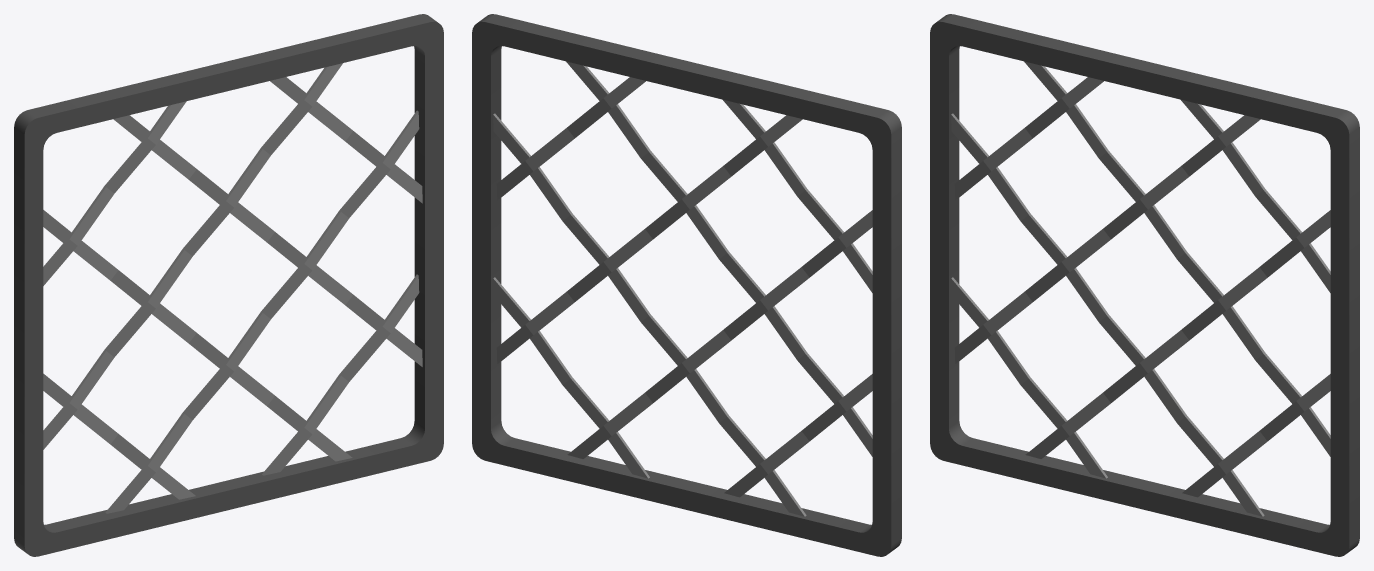
3 renders of one model, left to right at view 1: azimuth 30°, elevation 25°; view 2: azimuth 150°, elevation 25°; view 3: azimuth 330°, elevation 25°, orthographic.
Parts seen in each view (by area): view 1: Grid B; view 2: Grid B; view 3: Grid B.
Boxes of the visible parts, x1,y1,x2,y2 form: Grid B: [14, 14, 443, 556]; Grid B: [472, 14, 901, 556]; Grid B: [930, 14, 1359, 556].
Bounding box in the file's own units: 300 × 300 × 13.13.
